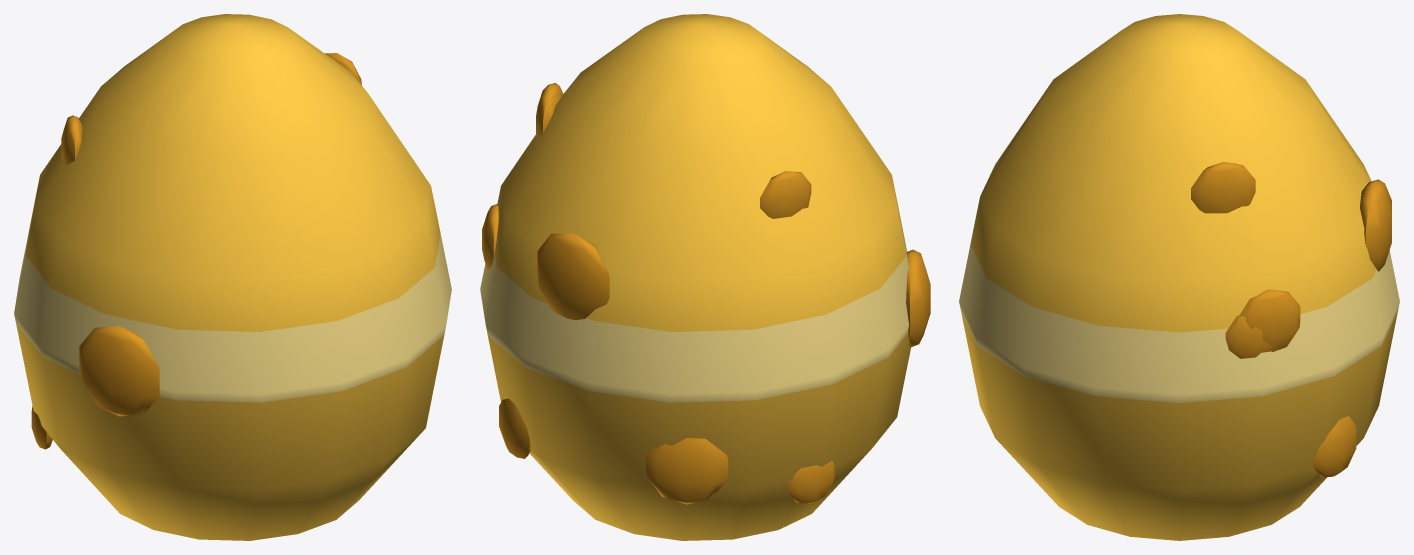
The model's file is LegendaryEgg.fbx.
3 views of the same model, side by side, from view 1: azimuth 30°, elevation 25°; view 2: azimuth 150°, elevation 25°; view 3: azimuth 270°, elevation 25° (orthographic).
Visible parts, largest first — view 1: LegendaryEgg; view 2: LegendaryEgg; view 3: LegendaryEgg.
Part boxes in pixels (x1,y1,x2,y2): LegendaryEgg: (14, 14, 451, 540); LegendaryEgg: (480, 14, 930, 540); LegendaryEgg: (959, 14, 1399, 540).
Size of the model in its own units: 2.1 by 2.5 by 2.1.
Materials: 1 (1 with a texture image).
